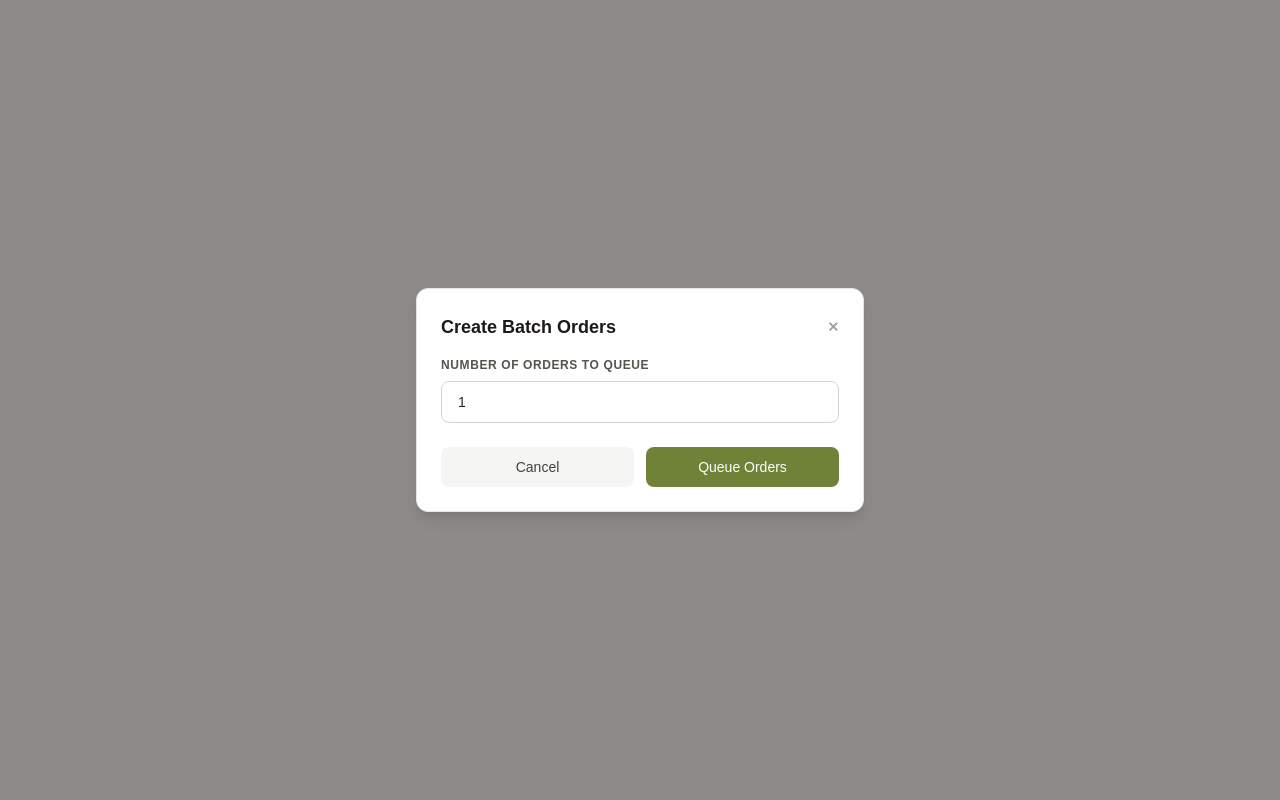
Test: BatchOrderModal › shows server errors and allows the user to retry
Step 1. Click the button "Queue Orders" → (742,467), box top-left (646, 447), bottom-right (839, 487)
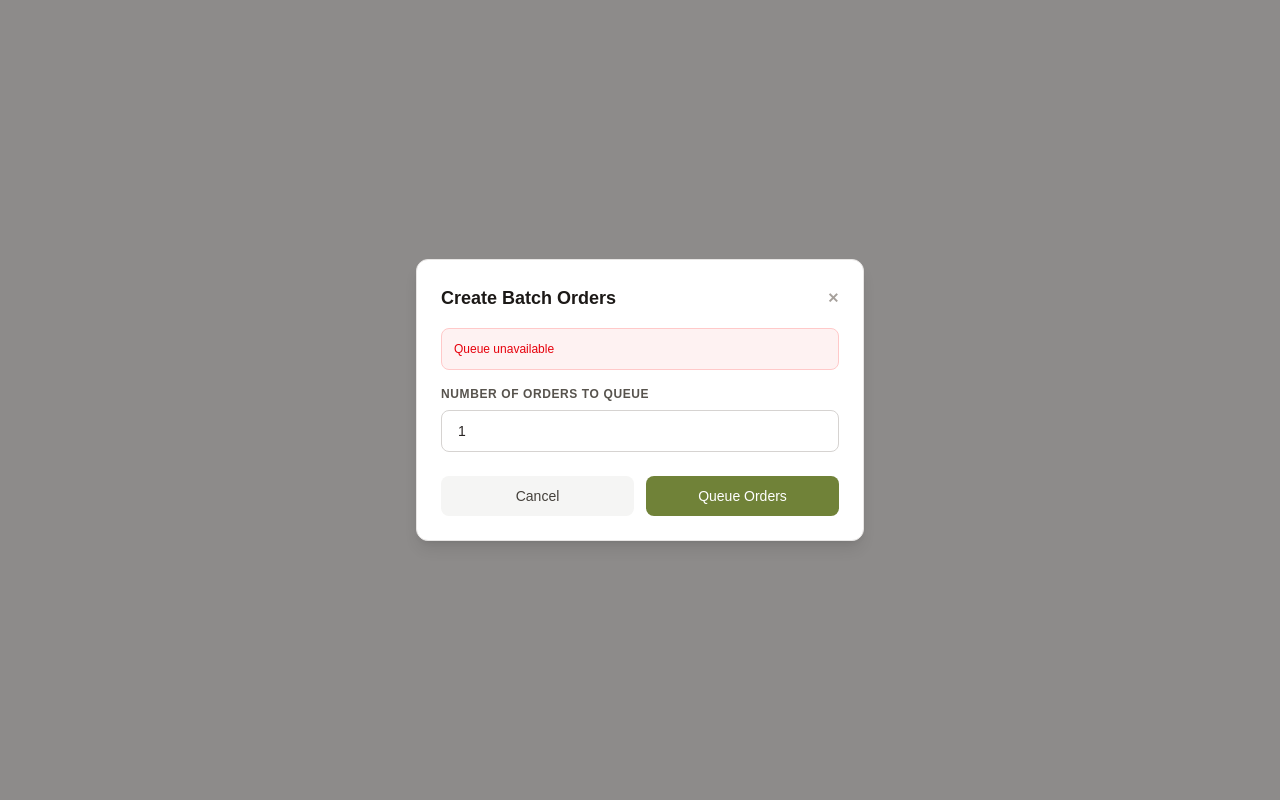
Expected: the button "Queue Orders" is enabled, top-left (646, 476), bottom-right (839, 516)
Expected: the text "Queue unavailable" is shown, top-left (441, 328), bottom-right (839, 370)
